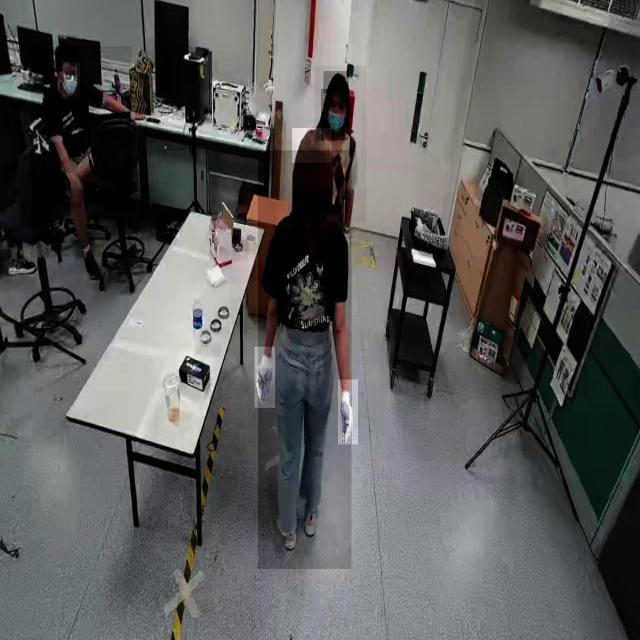face_mask: (321, 89, 349, 140), (62, 62, 80, 98)
hand_glove: (254, 347, 276, 409), (338, 380, 358, 446)
hand_noglove: (66, 173, 85, 203), (127, 107, 148, 128)
head_nohelmet: (292, 128, 332, 164), (324, 71, 349, 94), (54, 41, 78, 60)
person: (258, 150, 352, 570), (31, 46, 133, 258), (315, 66, 367, 223)
